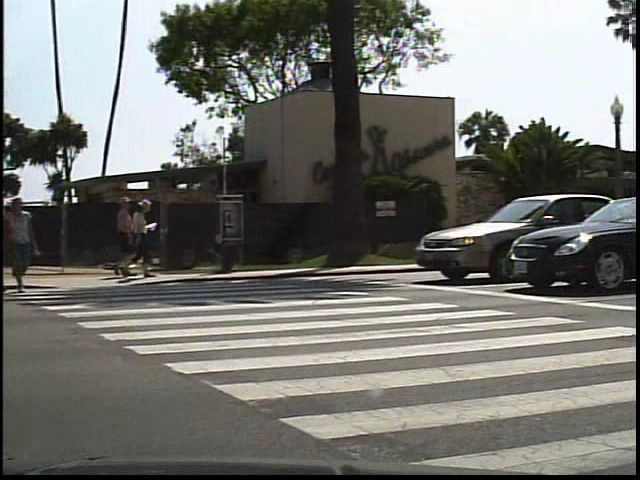person: (13, 194, 46, 294)
